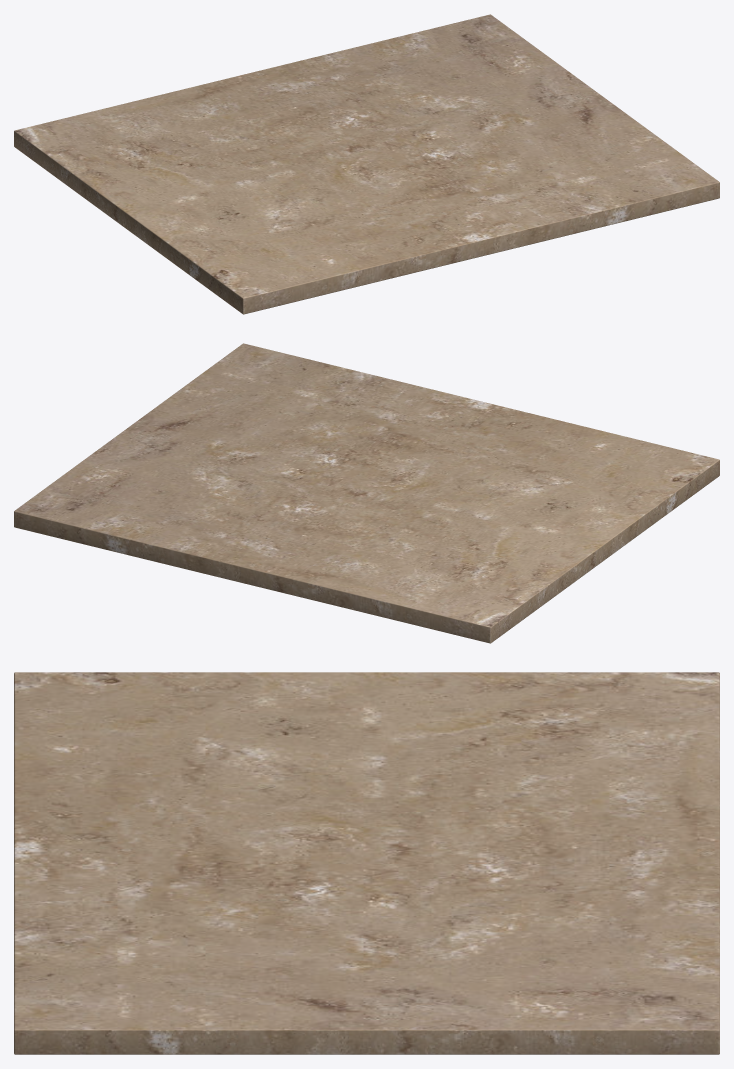
Rendered from countertop-1m-by-1.2m.glb.
The picture shows the model from 3 angles, top to bottom: view 1: azimuth 30°, elevation 25°; view 2: azimuth 150°, elevation 25°; view 3: azimuth 270°, elevation 25°; orthographic projection. The views are drawn at different scales.
Parts seen in each view (by area): view 1: countertop; view 2: countertop; view 3: countertop.
Part boxes in pixels (x1,y1,x2,y2): countertop: (14, 14, 719, 314); countertop: (14, 343, 719, 643); countertop: (14, 672, 719, 1054).
Size of the model in its own units: 1.2 by 0.04 by 1.
1 material, 1 textured.
